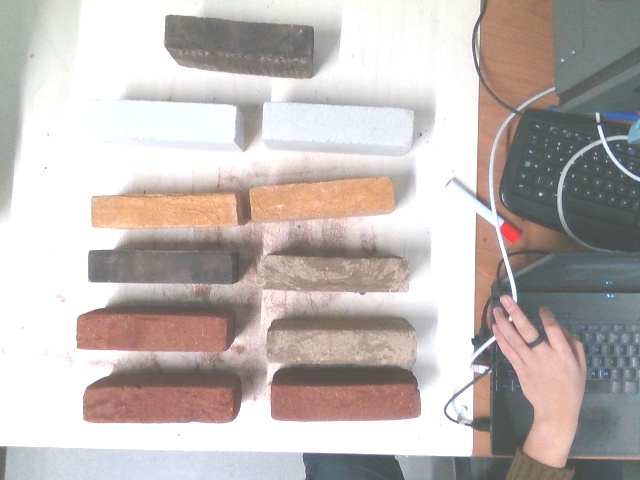brick-side: (163, 14, 314, 64), (262, 101, 412, 147), (85, 99, 235, 142), (269, 381, 418, 422), (248, 179, 397, 220), (78, 312, 220, 354), (85, 385, 234, 423), (267, 329, 415, 363), (92, 193, 234, 228), (86, 251, 234, 284), (261, 258, 403, 291)
